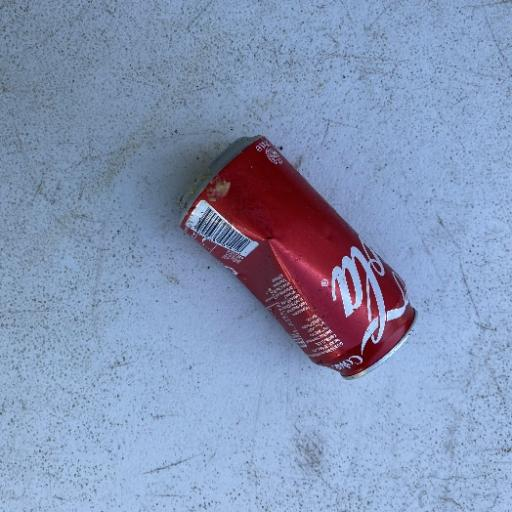Metal: (176, 133, 418, 381)
